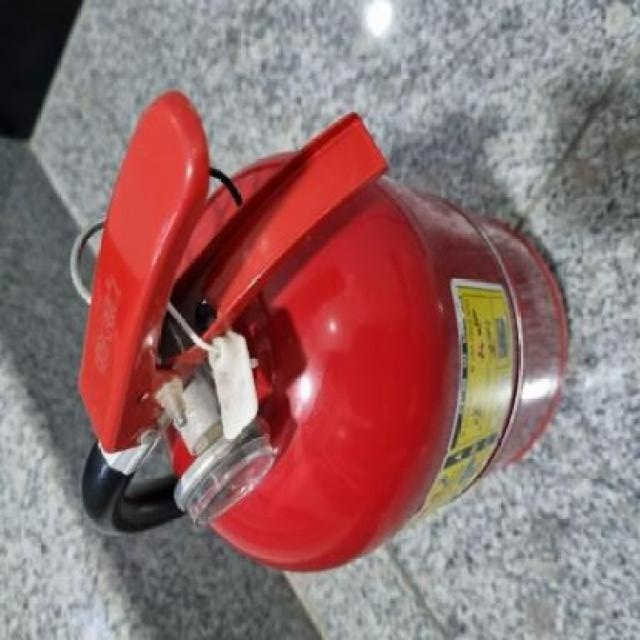fire extinguisher: (69, 89, 569, 573)
